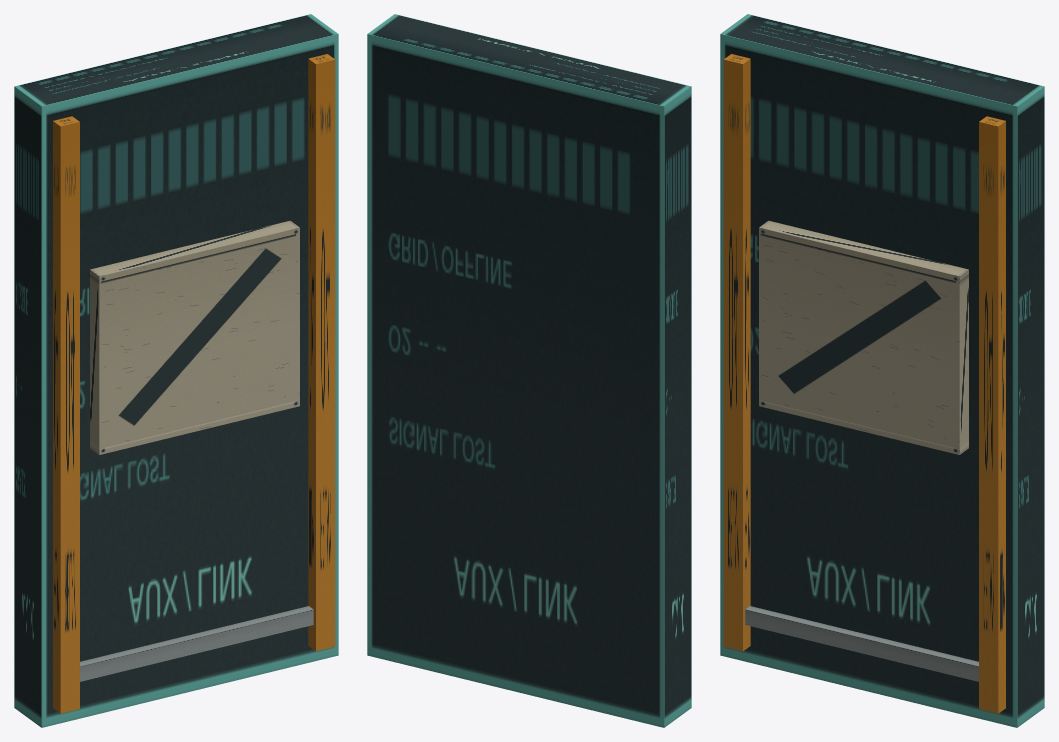
Rendered from wall_vent_2m_LOD2.obj.
3 renders of one model, left to right at view 1: azimuth 30°, elevation 25°; view 2: azimuth 150°, elevation 25°; view 3: azimuth 330°, elevation 25°, orthographic.
Parts seen in each view (by area): view 1: L02_wall_vent_2m_LOD2; view 2: L02_wall_vent_2m_LOD2; view 3: L02_wall_vent_2m_LOD2.
Part boxes in pixels (x1,y1,x2,y2): L02_wall_vent_2m_LOD2: (14,14,338,727); L02_wall_vent_2m_LOD2: (367,14,691,727); L02_wall_vent_2m_LOD2: (720,14,1044,727).
Bounding box in the file's own units: 2 × 4 × 0.43.
Materials: 1 (1 with a texture image).
